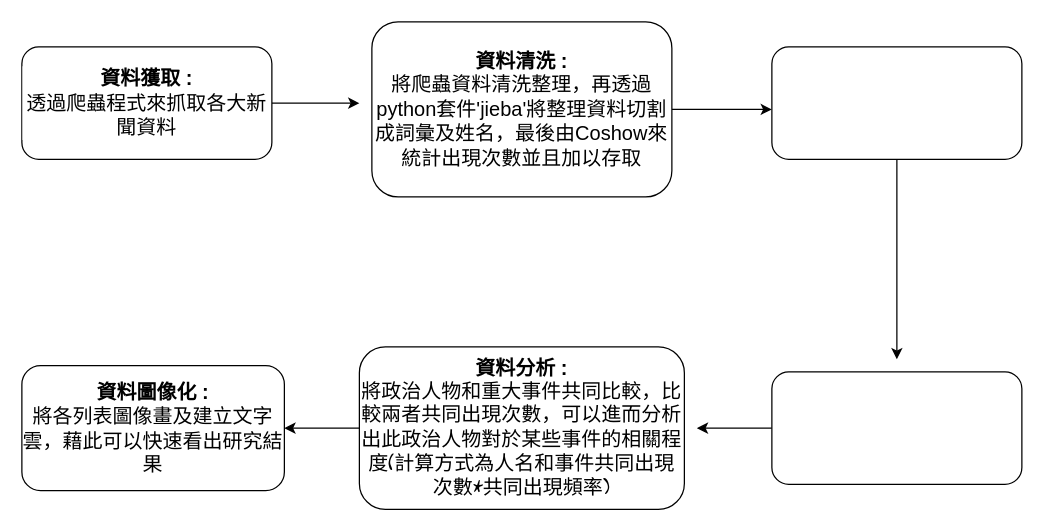
The diagram is 1044 pixels wide and 531 high, and some of its shapes have lost their labels. The shapes that lost their labels are listed below. From the top down, each one's box as (x1, y1, x2, y2) in pixels, then its label:
(771, 46, 1022, 159): 資料分析 : 製作重大事件出現列表 (計算方式為事件出現次數 * 出現頻率)
(771, 371, 1022, 484): 資料分析 : 製作政治人物出現列表 (計算方式為人名出現次數 * 出現頻率)
